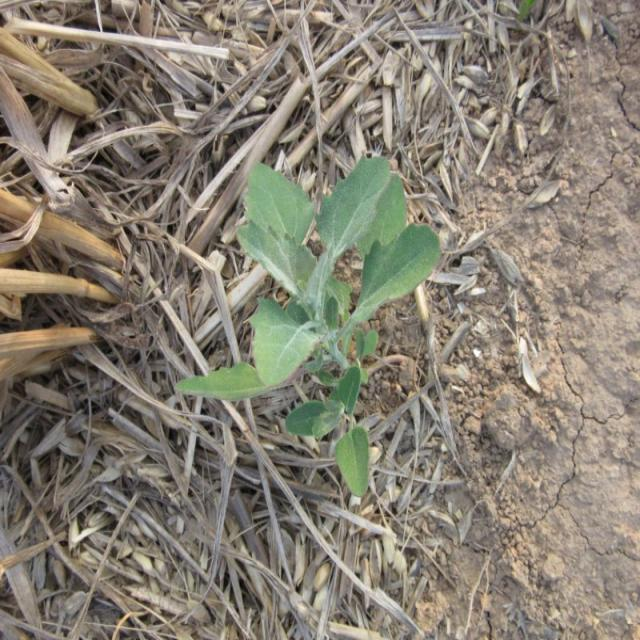ca: (182, 158, 441, 496)
